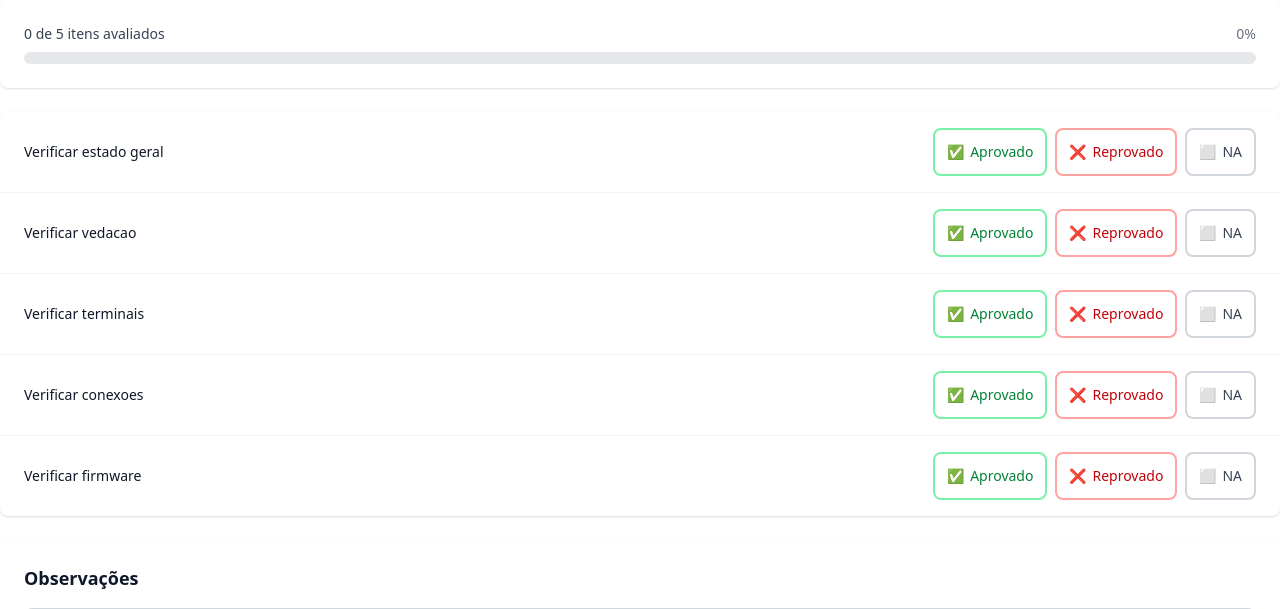
Test: ChecklistForm - Rejection Reason (US-303) › validates rejection reason minimum 10 characters on blur
Note: Click reject
Click the button with aria-label "Reprovado -" at (1116, 152), box [1056, 128, 1178, 176]
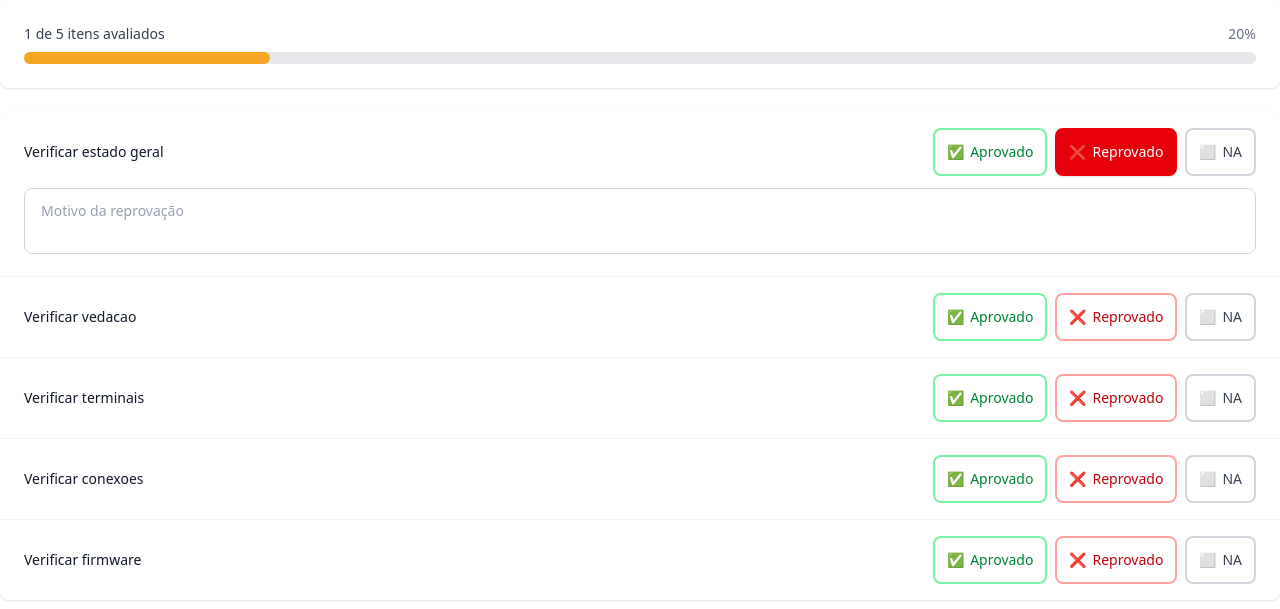
Type "short" into the text box with placeholder "Motivo da reprovação" at (640, 221), box [24, 188, 1256, 254]
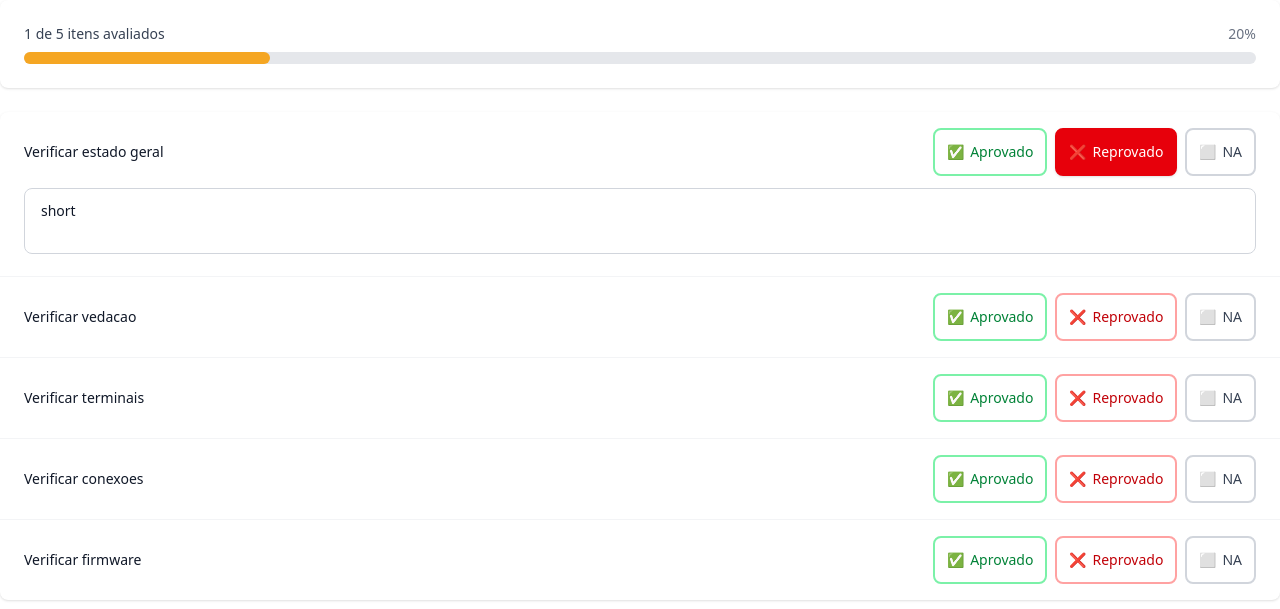
Leave the text box with placeholder "Motivo da reprovação", box [24, 188, 1256, 254]
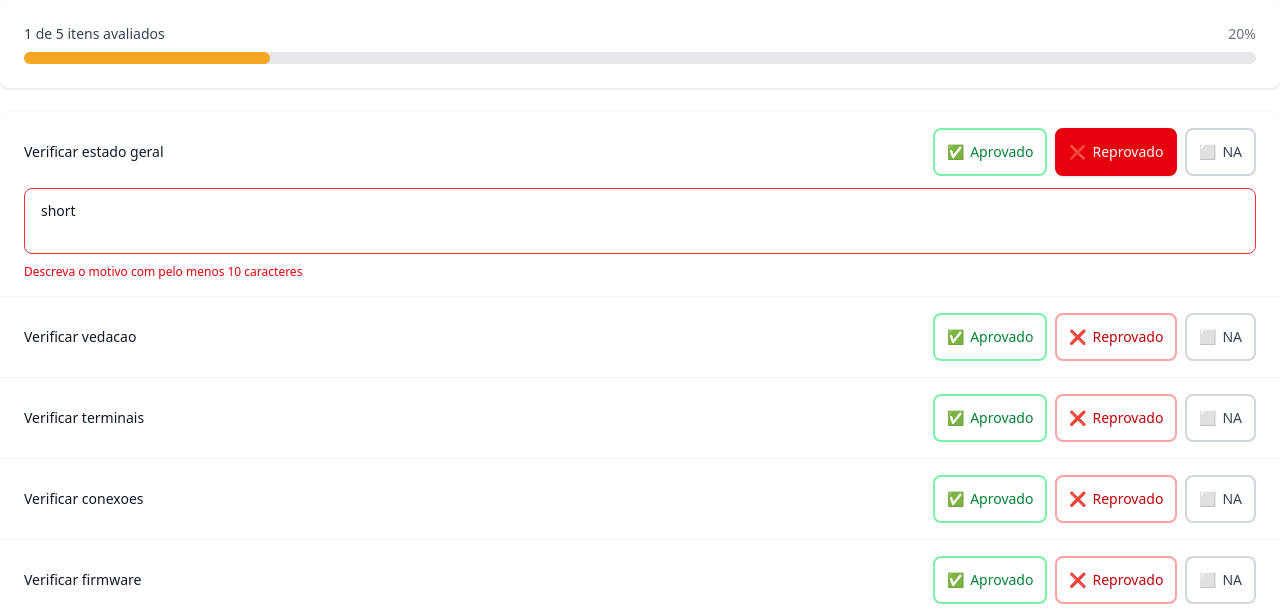
Check: the text "Descreva o motivo com pelo menos 10 caracteres" is shown, box [24, 263, 302, 280]
